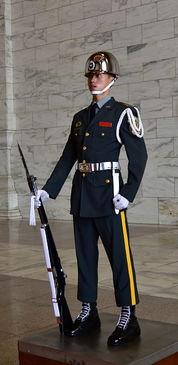up: (27, 43, 159, 349)
